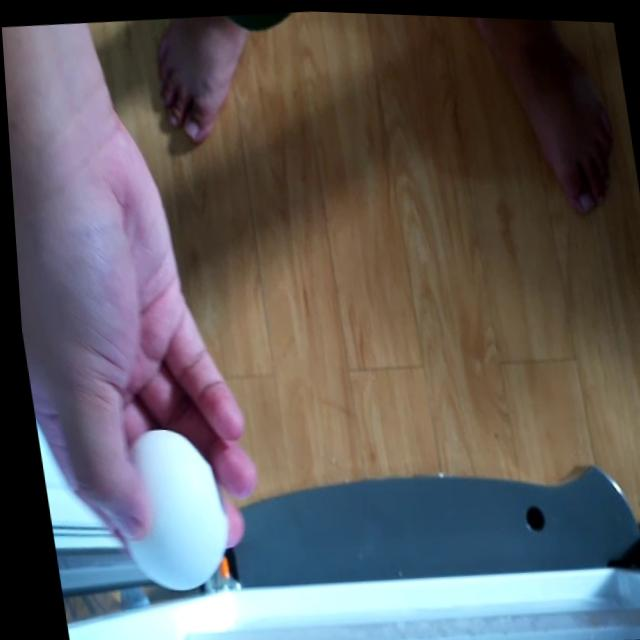egg: (99, 419, 227, 596)
